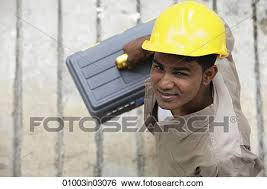Person_wearing_helmet: (137, 0, 229, 80)
